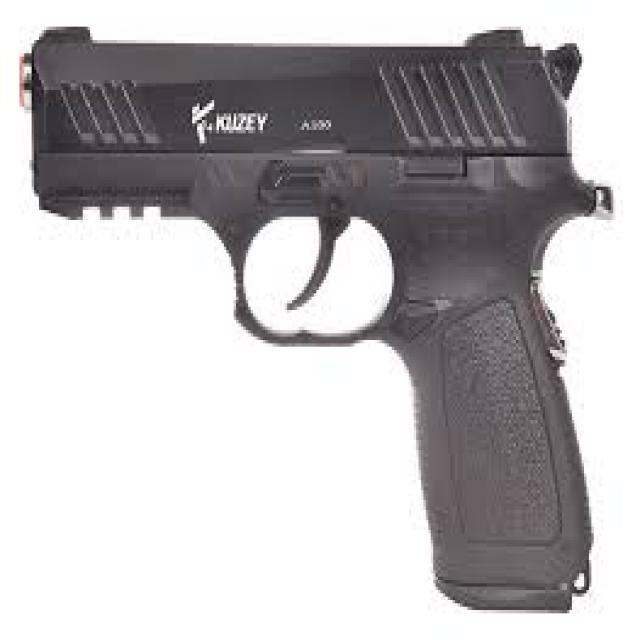pistol: (13, 17, 620, 616)
